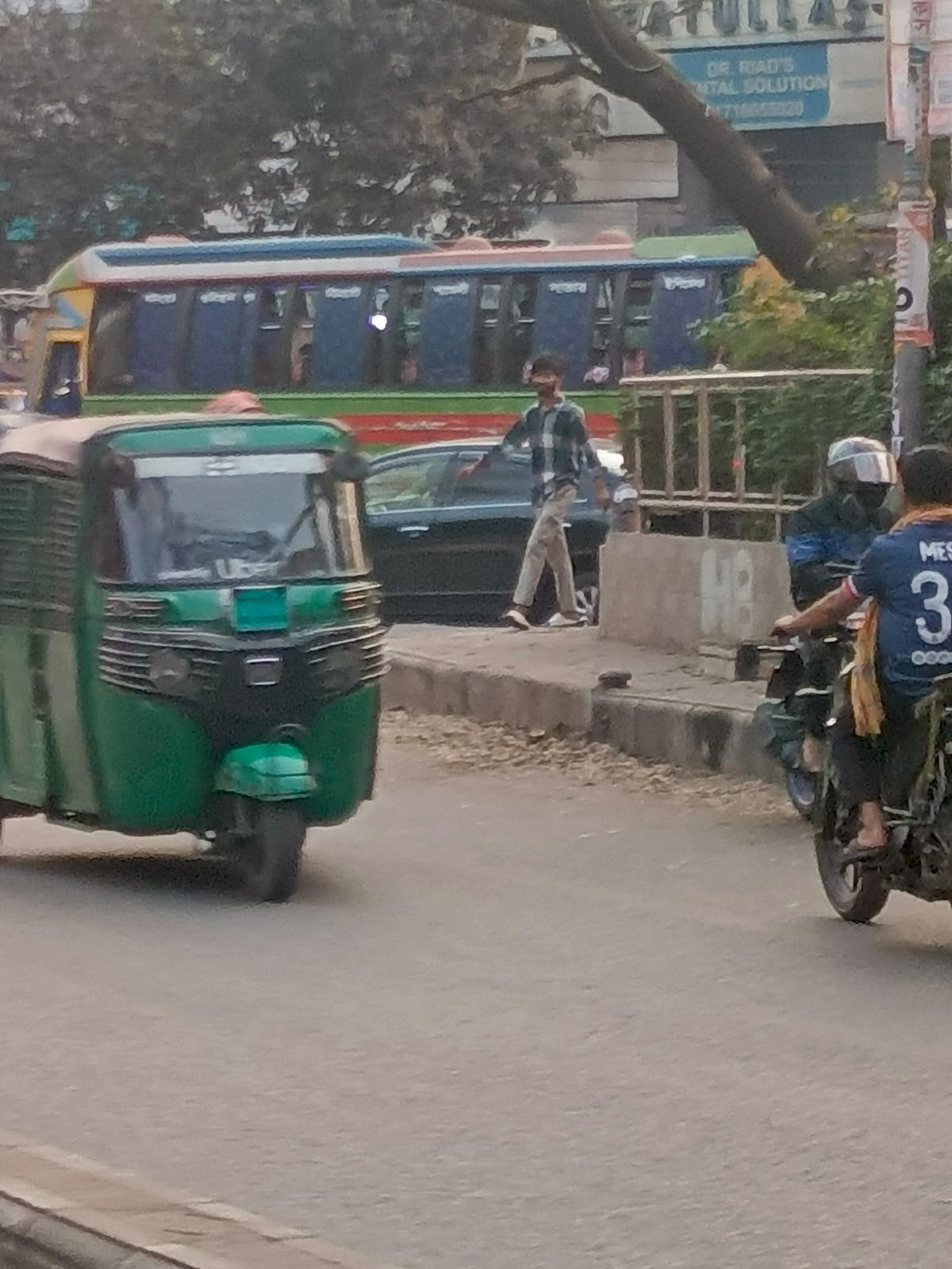Bus: (24, 223, 822, 438)
cng: (0, 402, 397, 917)
